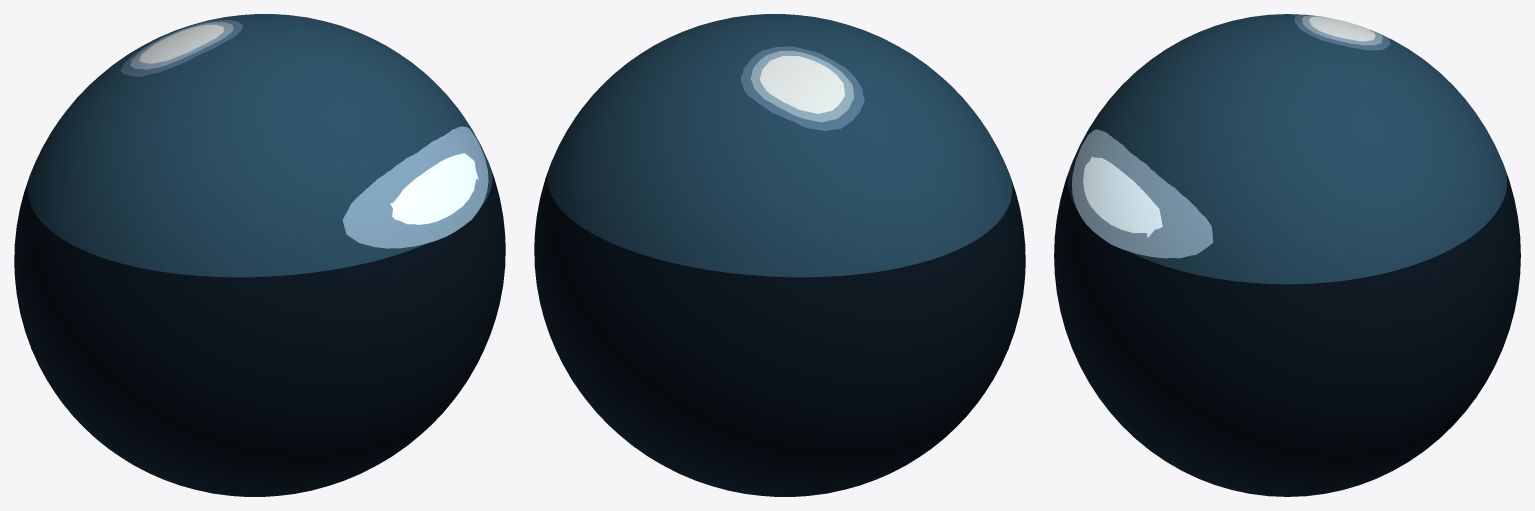
File: ball_dark_203.glb
3 views of the same model, side by side, from view 1: azimuth 30°, elevation 25°; view 2: azimuth 150°, elevation 25°; view 3: azimuth 270°, elevation 25° (orthographic).
Parts seen in each view (by area): view 1: ball_dark_203; view 2: ball_dark_203; view 3: ball_dark_203.
Boxes of the visible parts, x1=… form: ball_dark_203: x1=14, y1=14, x2=505, y2=496; ball_dark_203: x1=534, y1=14, x2=1025, y2=496; ball_dark_203: x1=1054, y1=14, x2=1520, y2=496.
Size of the model in its own units: 18 by 17.5 by 17.
